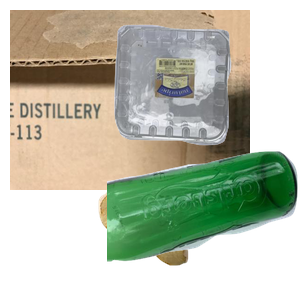cardboard: (10, 10, 250, 190)
glass: (107, 149, 300, 300)
plastic: (112, 22, 300, 160)
trash: (96, 181, 277, 300)
